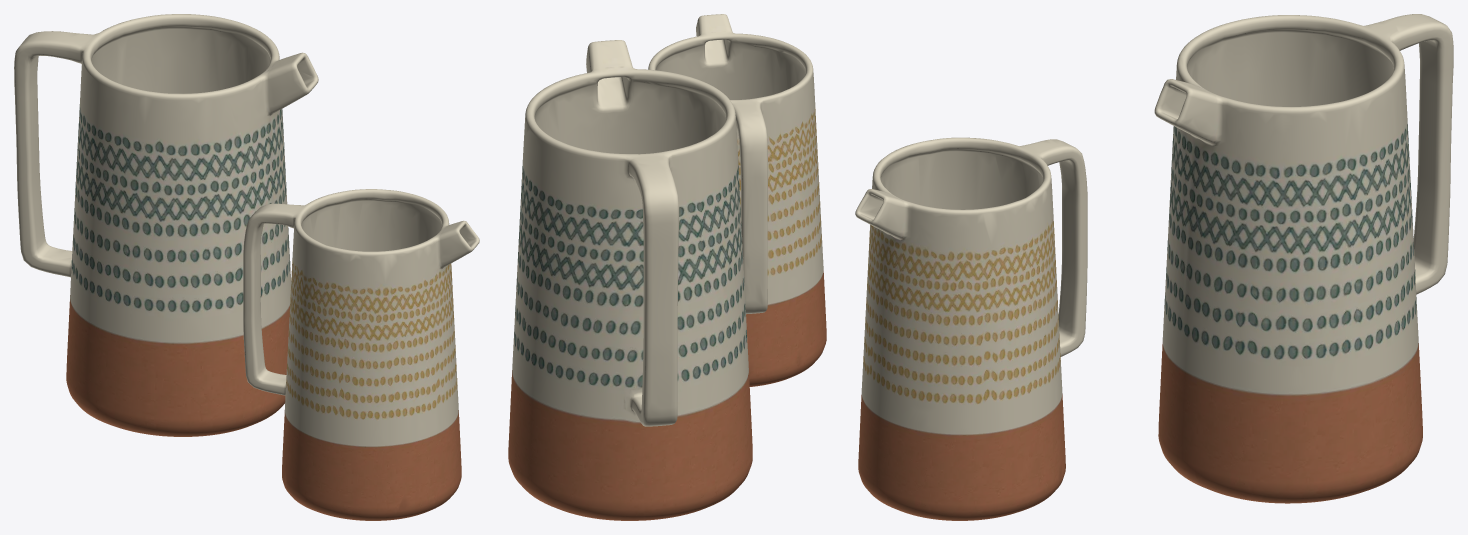
The model's file is B07HSK2H7M.glb.
3 renders of one model, left to right at view 1: azimuth 30°, elevation 25°; view 2: azimuth 150°, elevation 25°; view 3: azimuth 270°, elevation 25°, orthographic. The views are drawn at different scales.
Parts seen in each view (by area): view 1: RootNode; view 2: RootNode; view 3: RootNode.
Boxes of the visible parts, x1,y1,x2,y2 form: RootNode: (14, 14, 479, 520); RootNode: (508, 14, 826, 520); RootNode: (855, 14, 1453, 520).
Size of the model in its own units: 0.1681 by 0.2472 by 0.3257.
Materials: 1 (1 with a texture image).
